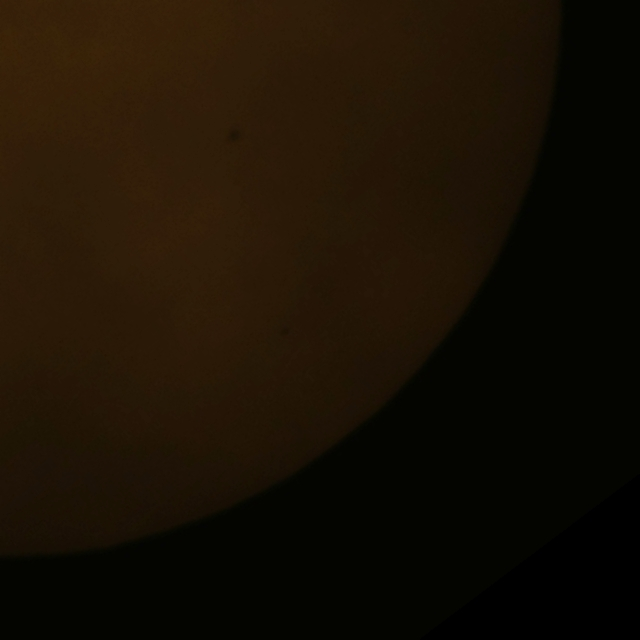sunspot: (212, 114, 265, 159)
